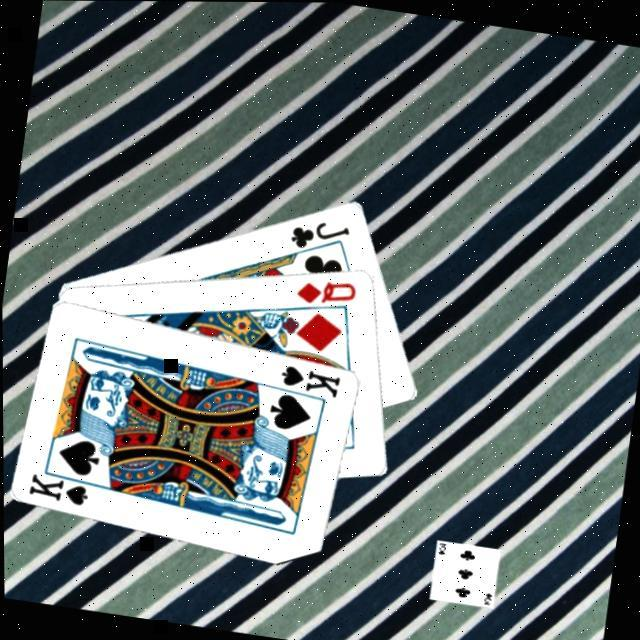JC: (287, 214, 355, 258)
KS: (26, 464, 101, 512), (276, 361, 344, 401)
QD: (293, 272, 361, 313)
